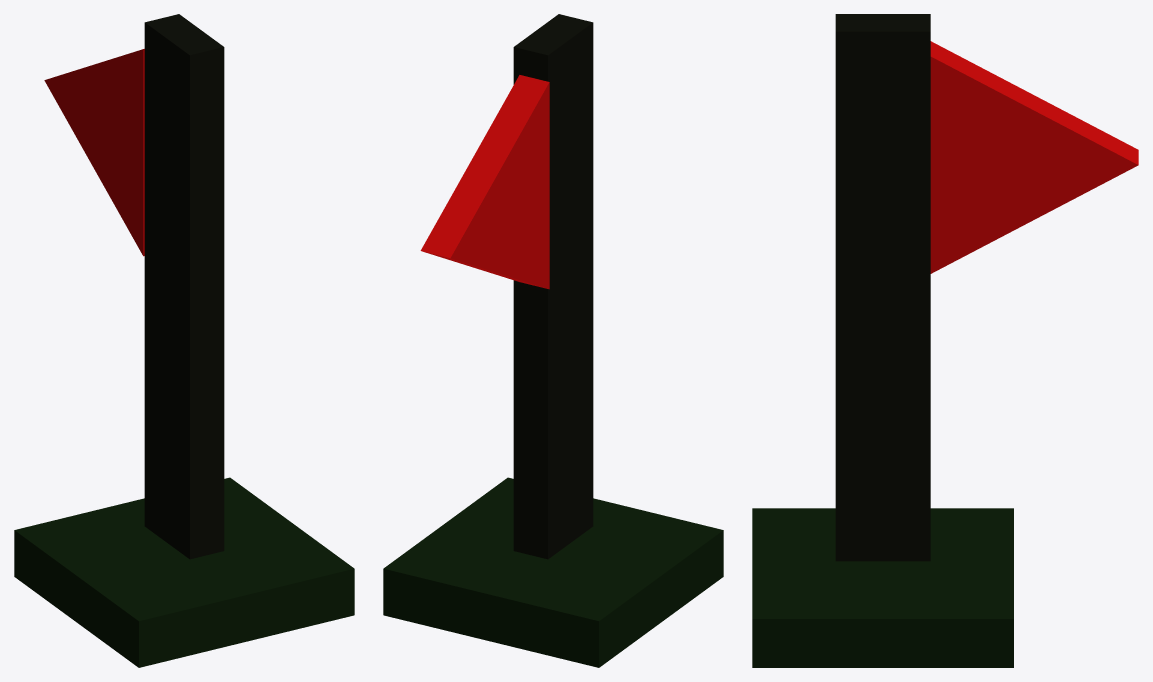
File: Flag.obj
The picture shows the model from 3 angles, left to right: view 1: azimuth 30°, elevation 25°; view 2: azimuth 150°, elevation 25°; view 3: azimuth 270°, elevation 25°; orthographic projection. The views are drawn at different scales.
Visible parts, largest first — view 1: Cube, 立方体, 円柱; view 2: 立方体, Cube, 円柱; view 3: Cube, 立方体, 円柱.
Part boxes in pixels (<box>): Cube: <box>144,14,224,559</box>; 立方体: <box>14,477,354,667</box>; 円柱: <box>44,49,144,256</box>; 立方体: <box>383,477,723,667</box>; Cube: <box>513,14,593,559</box>; 円柱: <box>420,75,549,289</box>; Cube: <box>835,14,930,561</box>; 立方体: <box>752,508,1013,667</box>; 円柱: <box>930,41,1138,273</box>.
Bounding box in the file's own units: 0.8957 × 2.23 × 1.32.
